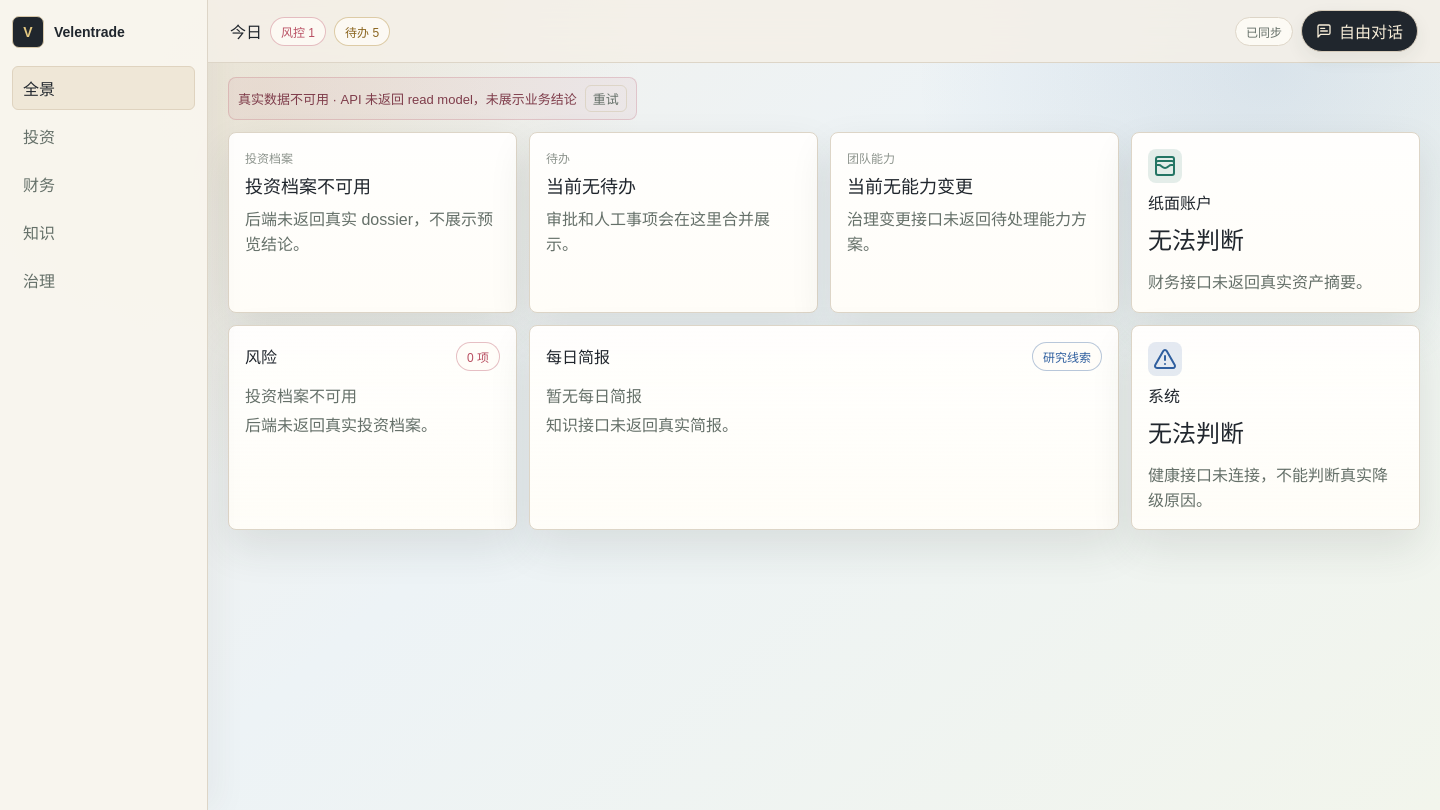
Test case: WI-004 workbench interactions › does not show an arranged request preview when the request brief API fails
What coordinates should you click on to do the following:
click the button "自由对话"
I would click on:
 (1360, 31)
Its box is [1301, 10, 1418, 52].
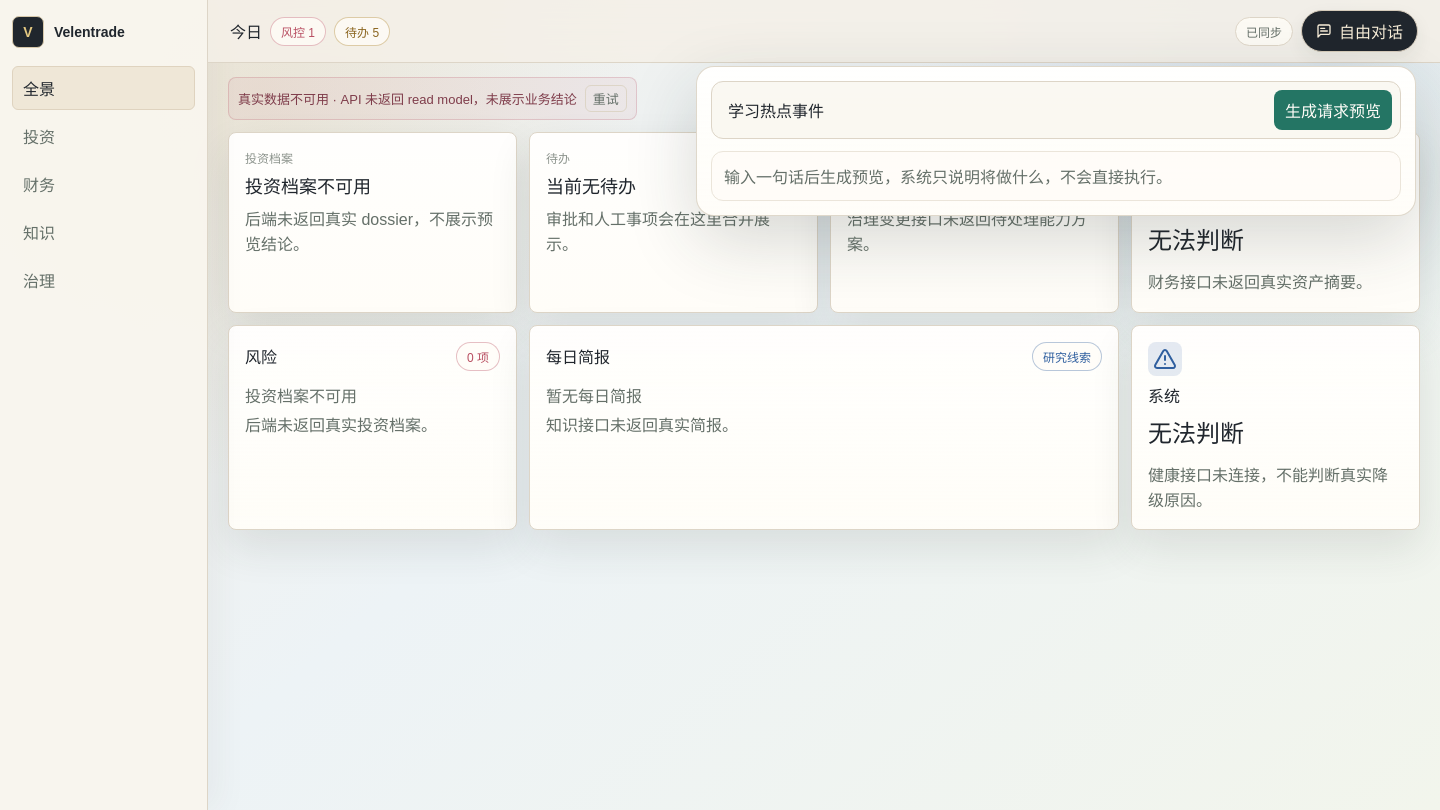
What coordinates should you click on to do the following:
click the button "生成请求预览"
I would click on:
 (1333, 110)
Its box is [1274, 90, 1392, 130].
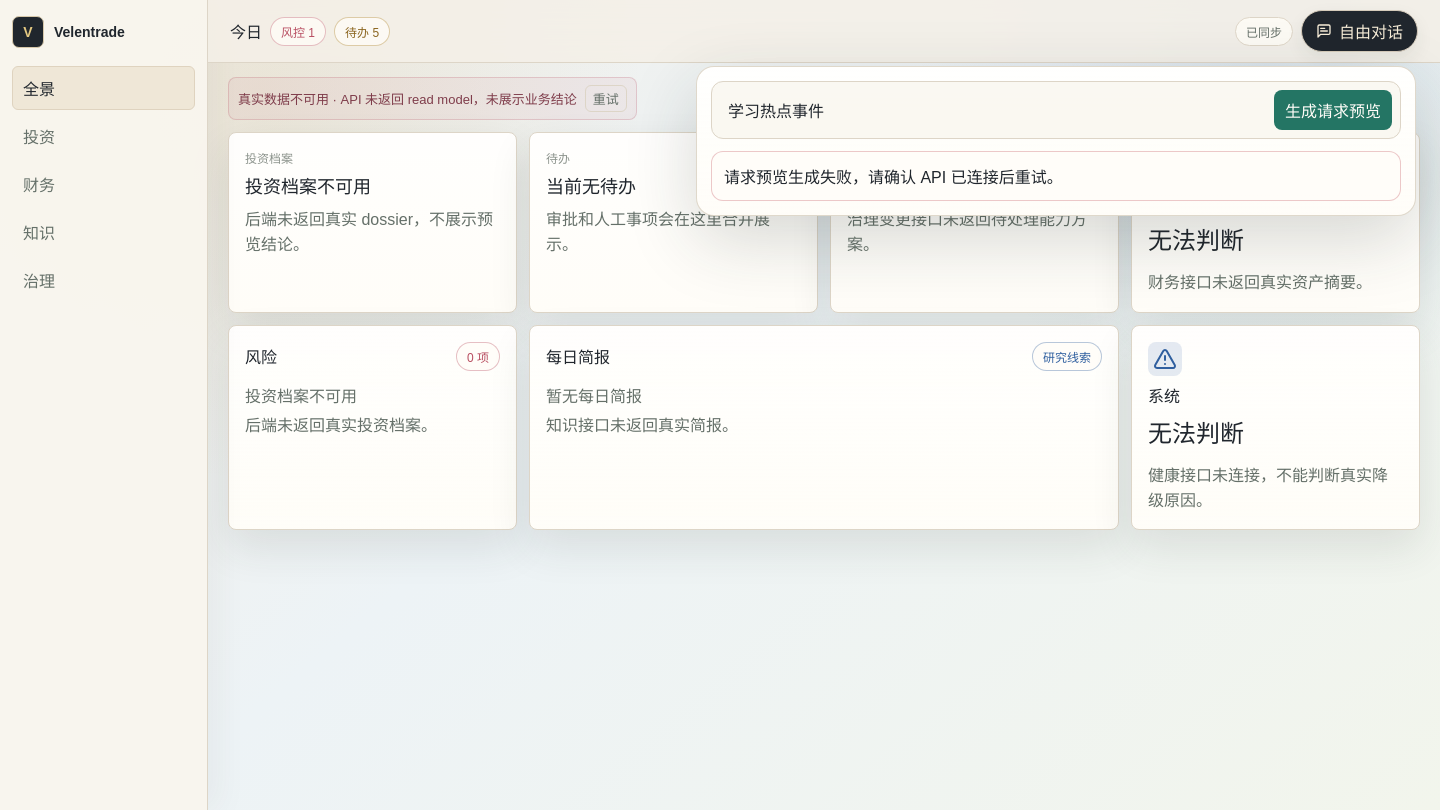
expect the text "请求预览生成失败" is shown: met, box [724, 169, 1063, 186]
